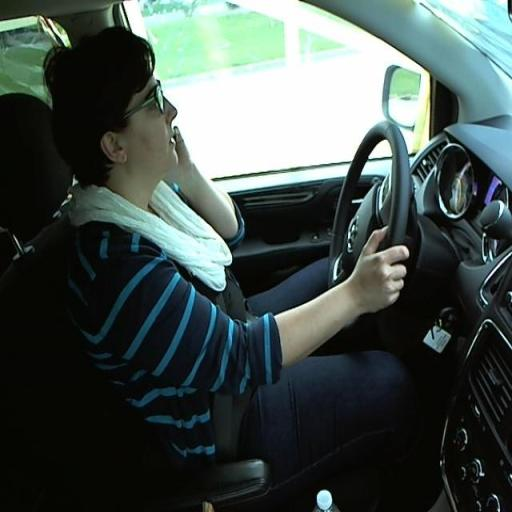talking_phone: (67, 48, 412, 346)
